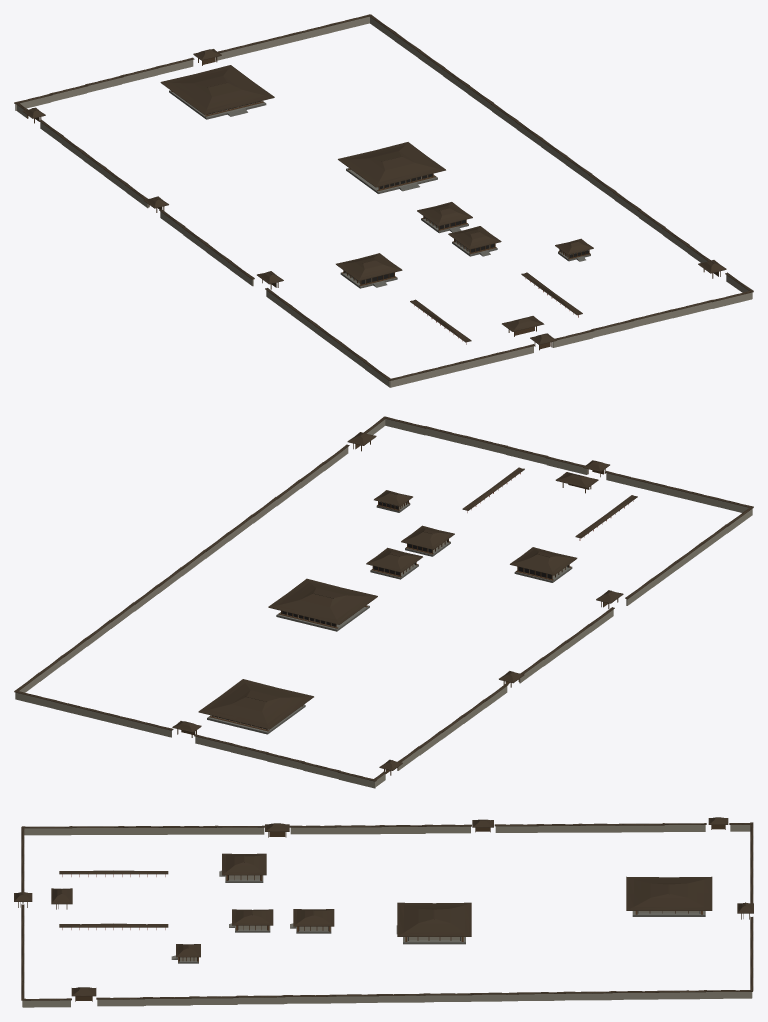
The model's file is imperial-palace.glb.
The picture shows the model from 3 angles, top to bottom: view 1: azimuth 30°, elevation 25°; view 2: azimuth 150°, elevation 25°; view 3: azimuth 270°, elevation 25°; orthographic projection. The views are drawn at different scales.
Bounding box in the file's own units: 252 × 15.01 × 448.
